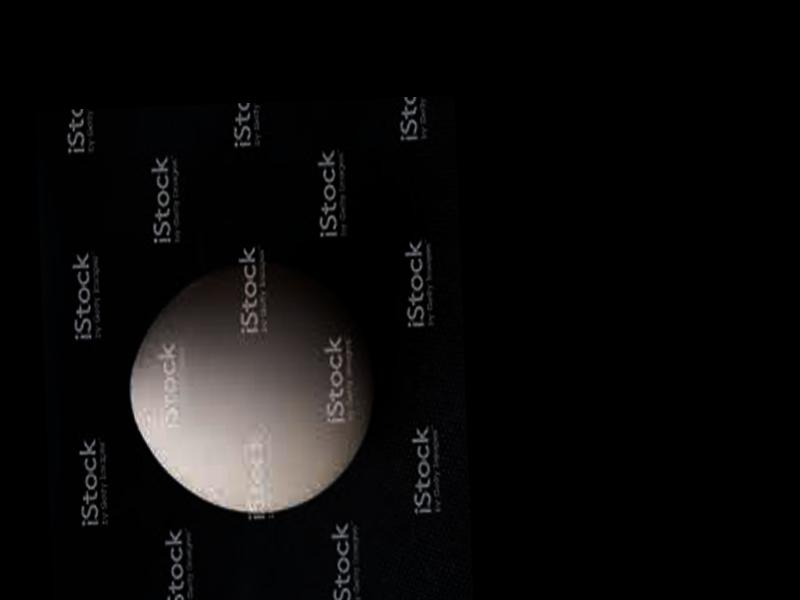Eggs: (124, 257, 380, 517)
